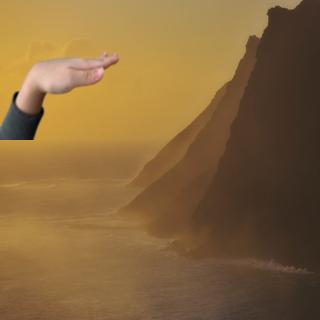Wait: (9, 48, 124, 102)
